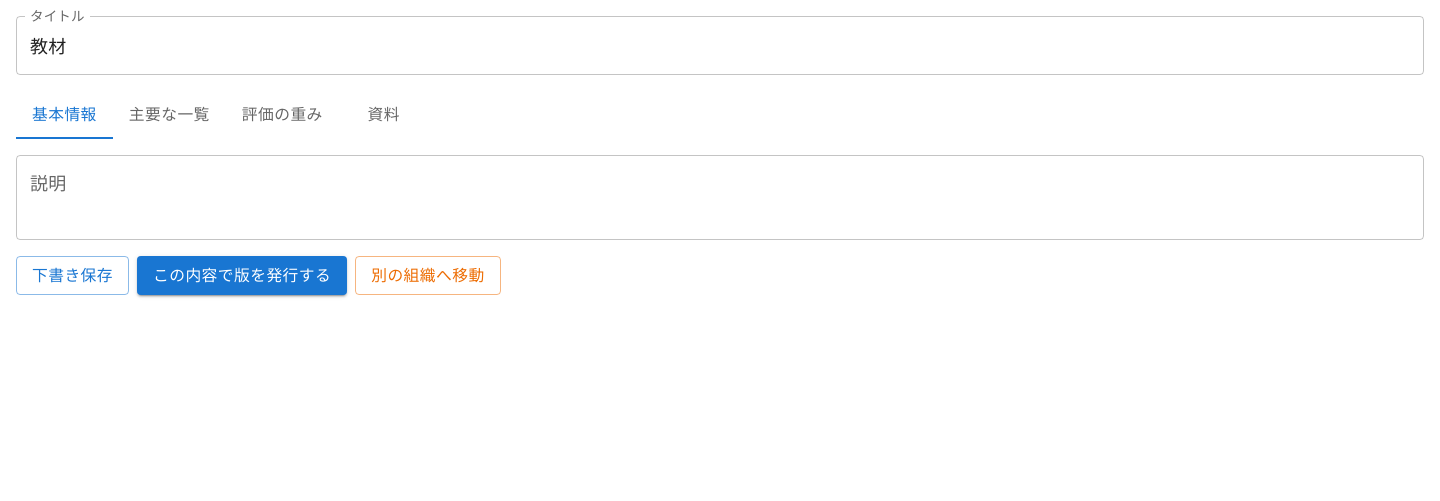
it: TemplateEditorPage › shows error notice and disables upload and AI regeneration when aiBetaState is ERROR
Click the tab "資料".
click(384, 115)  # box [339, 91, 429, 139]
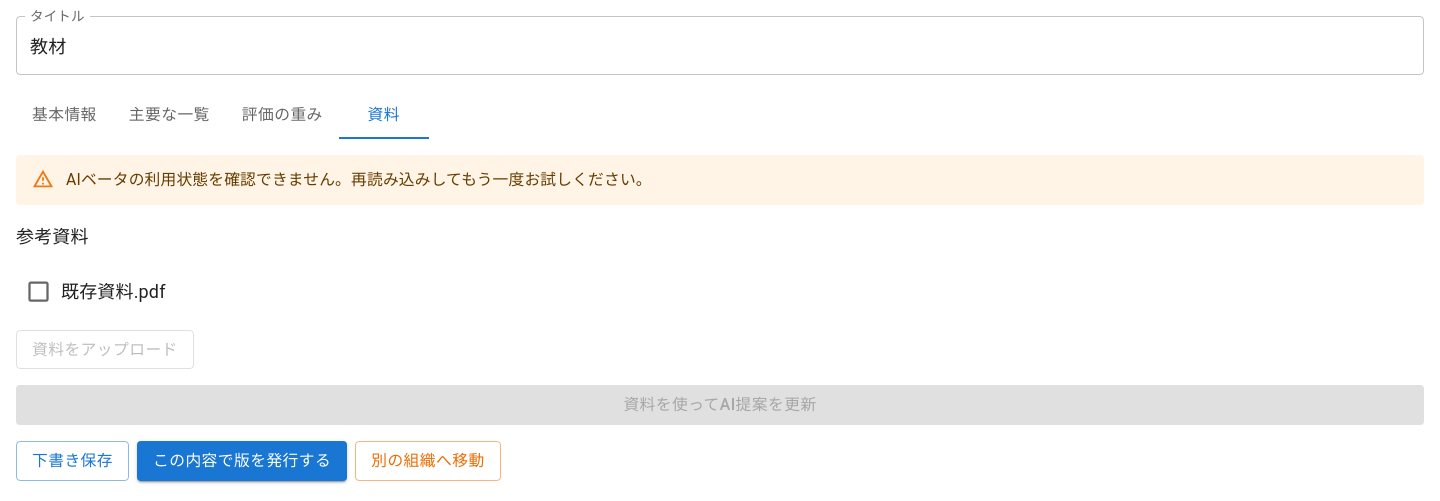
Now the text "既存資料.pdf" is shown, box [61, 278, 166, 305]
Now the text "AIベータの利用状態を確認できません。再読み込みしてもう一度お試しください。" is shown, box [66, 170, 652, 189]
Now the button "資料を使ってAI提案を更新" is disabled, box [16, 386, 1424, 425]
